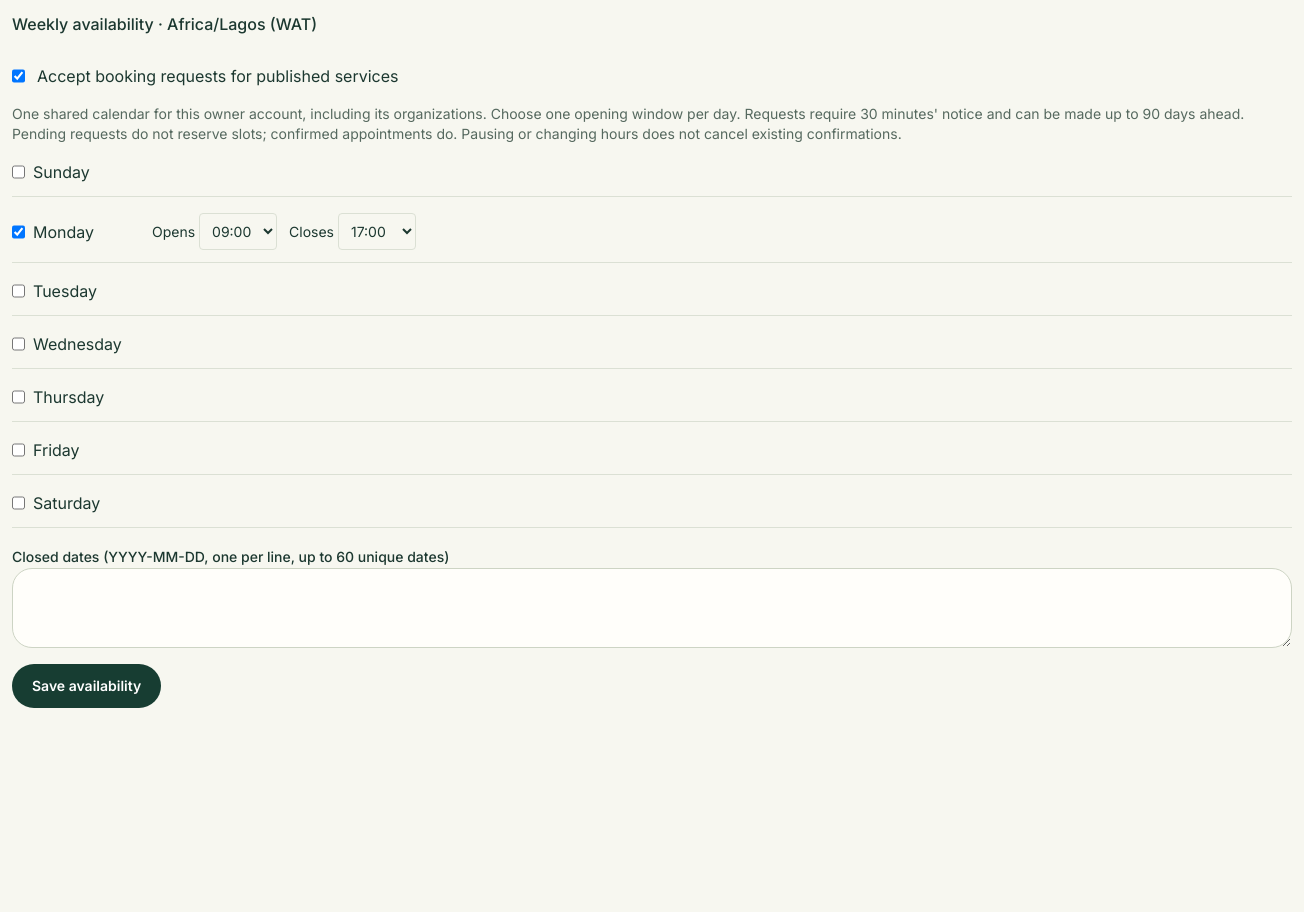
Test: distinguishes a confirmed save from a failed refresh
Click the button "Save availability".
click(87, 686)  # box x1=12 y1=664 x2=161 y2=708
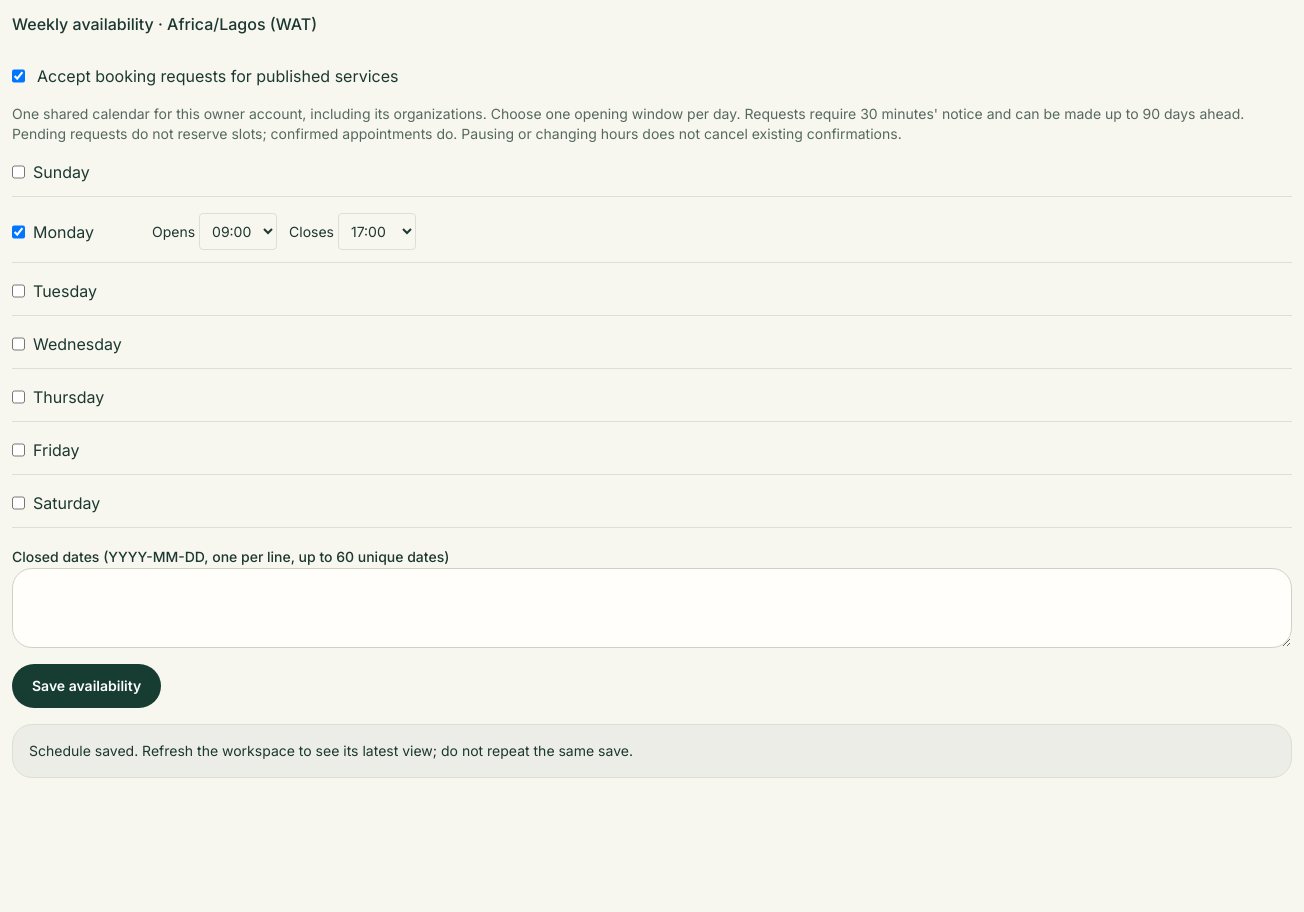
Result: the text "Schedule saved. Refresh the workspace to see its latest view; do not repeat the same save." is shown at x1=29 y1=742 x2=633 y2=759
